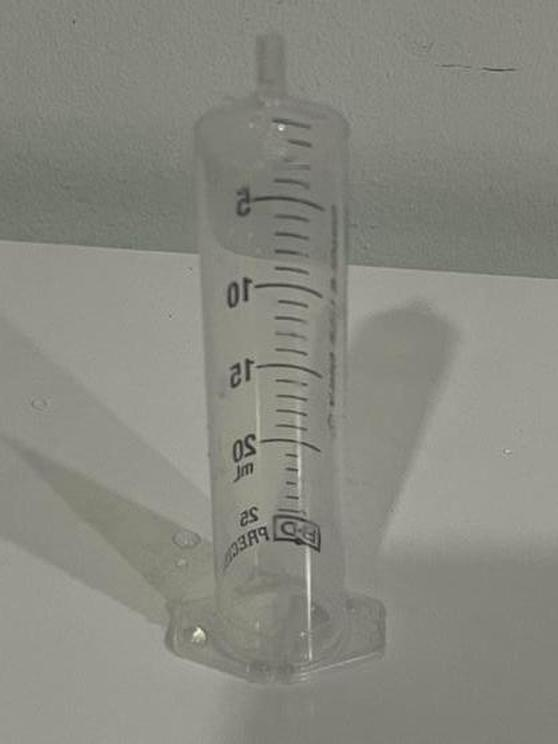wetsyringe: (166, 37, 394, 682)
